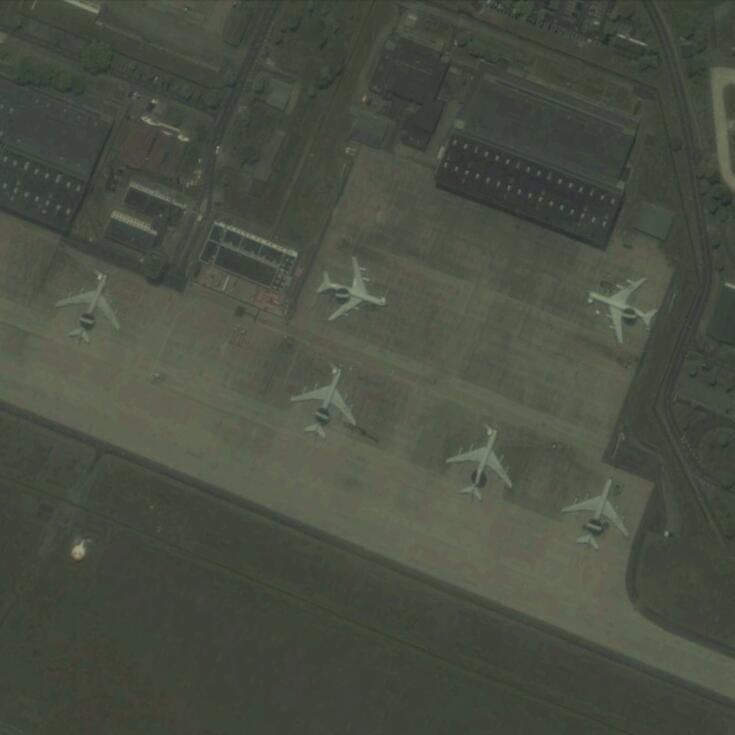A7: (559, 474, 630, 551), (443, 425, 513, 501), (588, 274, 656, 345), (290, 365, 357, 437), (318, 256, 385, 327), (55, 271, 121, 343)
